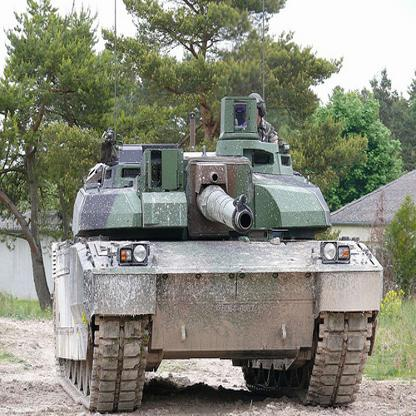Tank: (52, 93, 384, 416)
